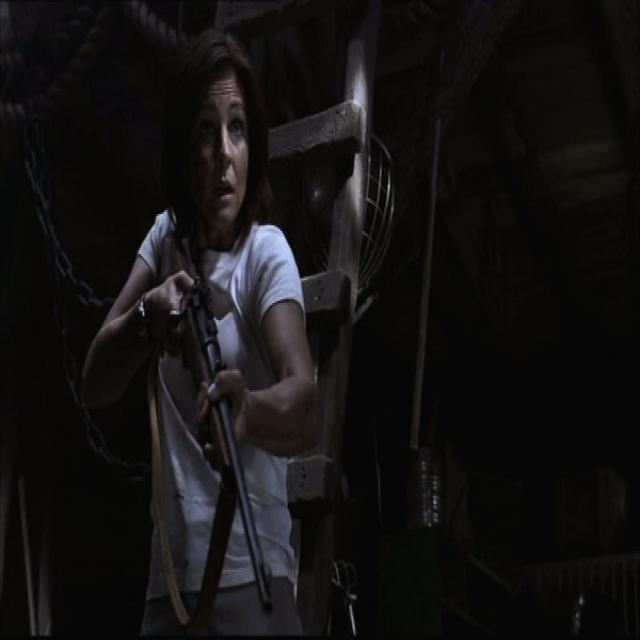rifle: (168, 228, 273, 615)
